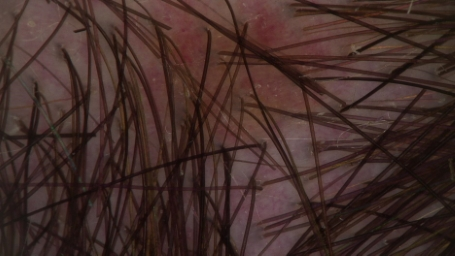nevus: (115, 1, 319, 154)
